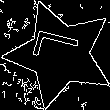L_E: (31, 33, 89, 75)
